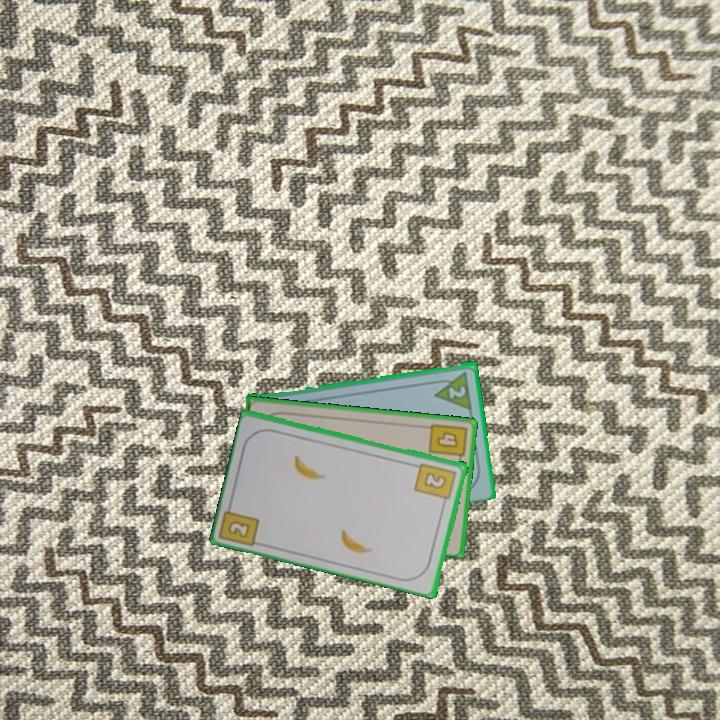2b: (412, 459, 459, 508), (218, 498, 263, 549)
2p: (430, 367, 475, 411)
4b: (425, 419, 469, 466)
